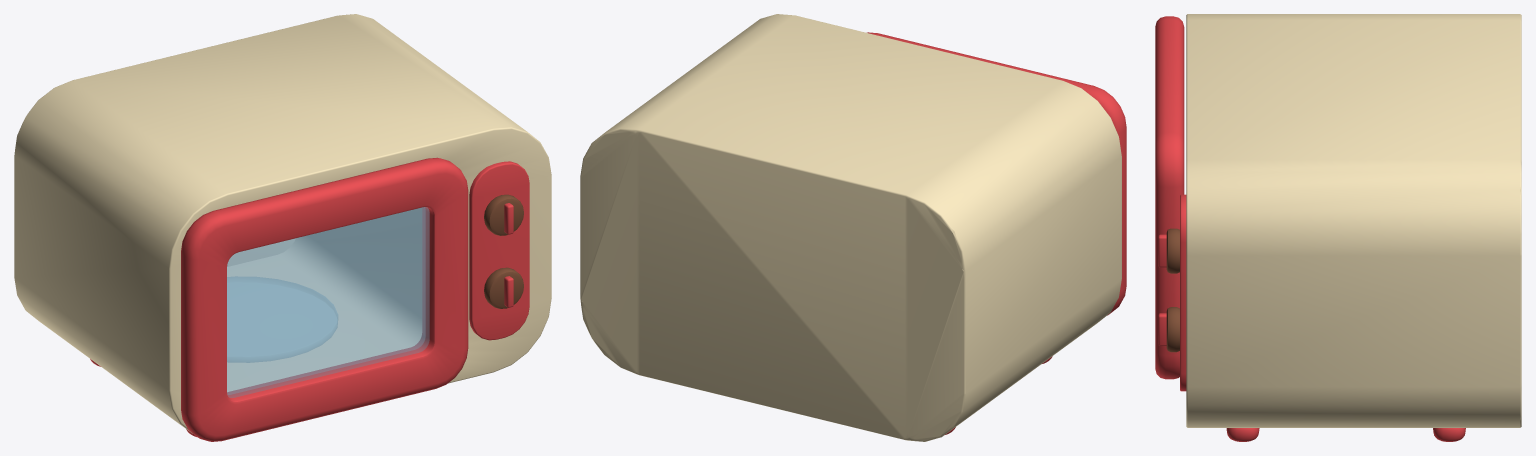
File: micro_ondas_retro_creme.glb
The picture shows the model from 3 angles, left to right: view 1: azimuth 30°, elevation 25°; view 2: azimuth 150°, elevation 25°; view 3: azimuth 270°, elevation 25°; orthographic projection. The views are drawn at different scales.
Visible parts, largest first — view 1: micro_ondas_retro_creme, porta; view 2: micro_ondas_retro_creme, porta; view 3: micro_ondas_retro_creme, porta.
Part boxes in pixels (bbox=[...]): micro_ondas_retro_creme: bbox=[14, 14, 551, 436]; porta: bbox=[181, 157, 468, 441]; micro_ondas_retro_creme: bbox=[580, 14, 1121, 441]; porta: bbox=[867, 32, 1126, 315]; micro_ondas_retro_creme: bbox=[1158, 14, 1521, 441]; porta: bbox=[1155, 16, 1184, 379].
Size of the model in its own units: 0.46 by 0.298 by 0.355.
Materials: 2 (1 with a texture image).
